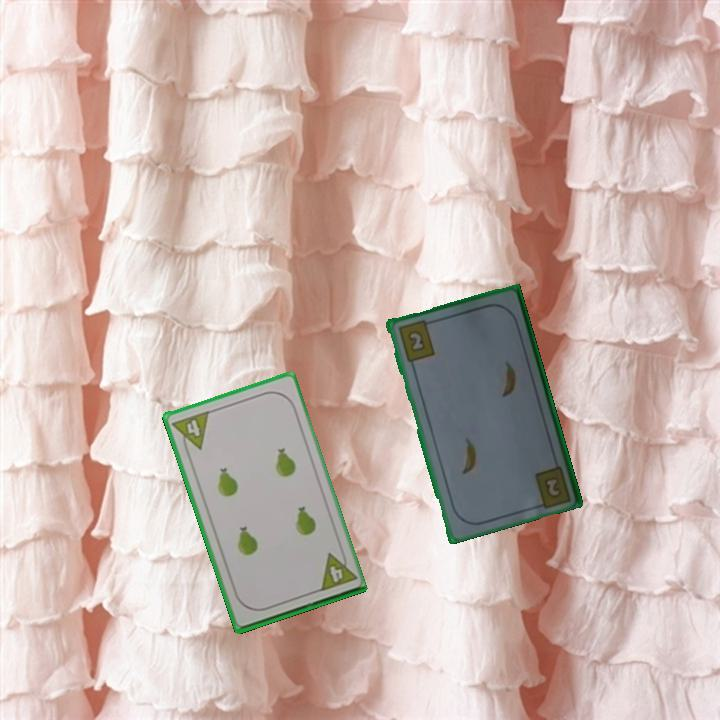2b: (394, 316, 437, 364), (540, 473, 563, 499)
4p: (169, 407, 212, 456), (315, 546, 358, 594)
